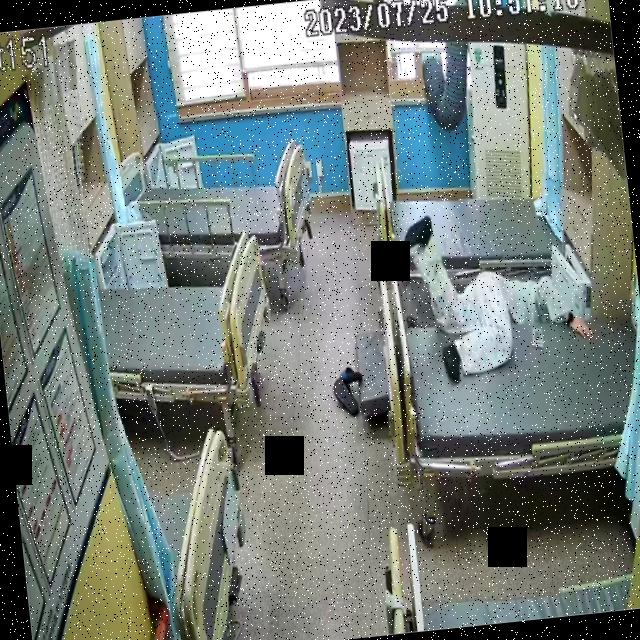bed: (372, 242, 640, 491), (370, 128, 570, 304), (98, 233, 278, 415), (135, 143, 314, 275)
danger: (402, 200, 600, 399)
patient: (402, 199, 600, 394)
